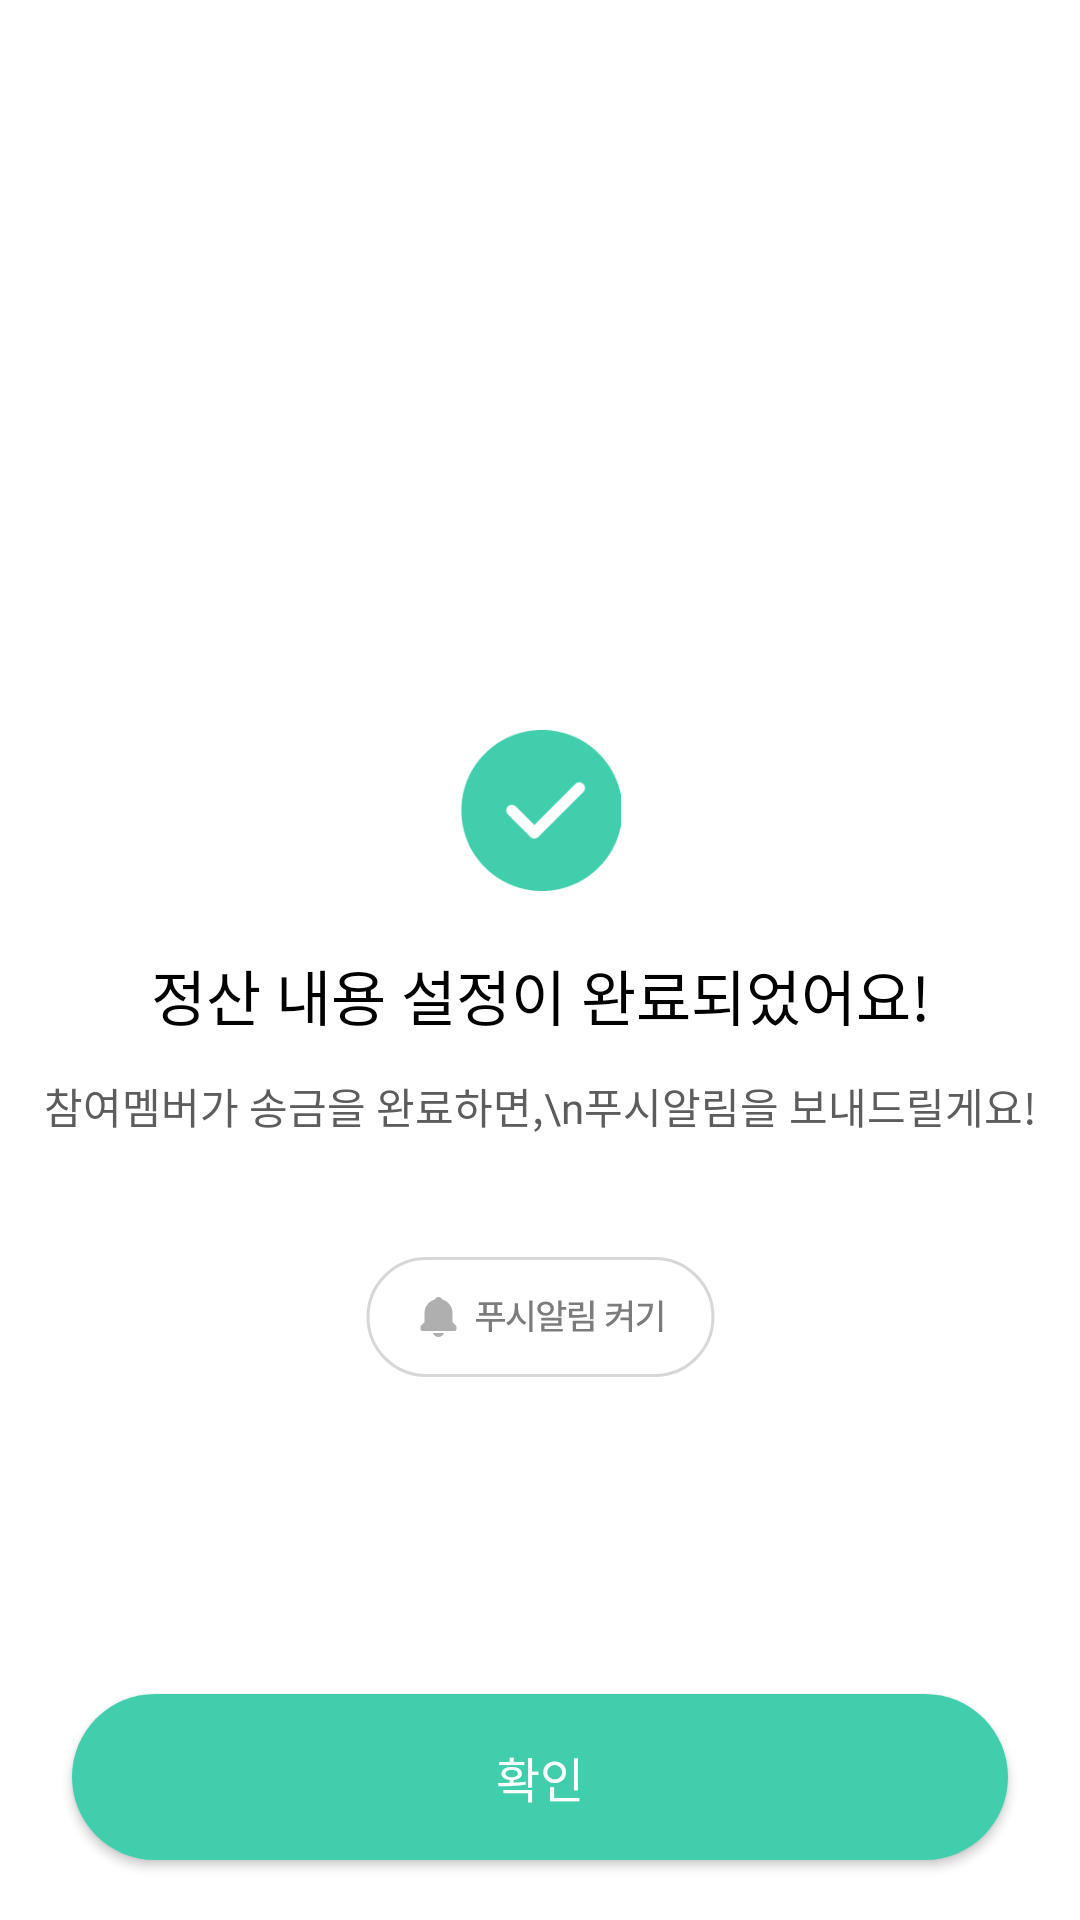

Named icons in this screenshot (1080*1920) and their bounding boxes, (x1, y1, x2, y2):
complete check: (461, 730, 621, 891)
